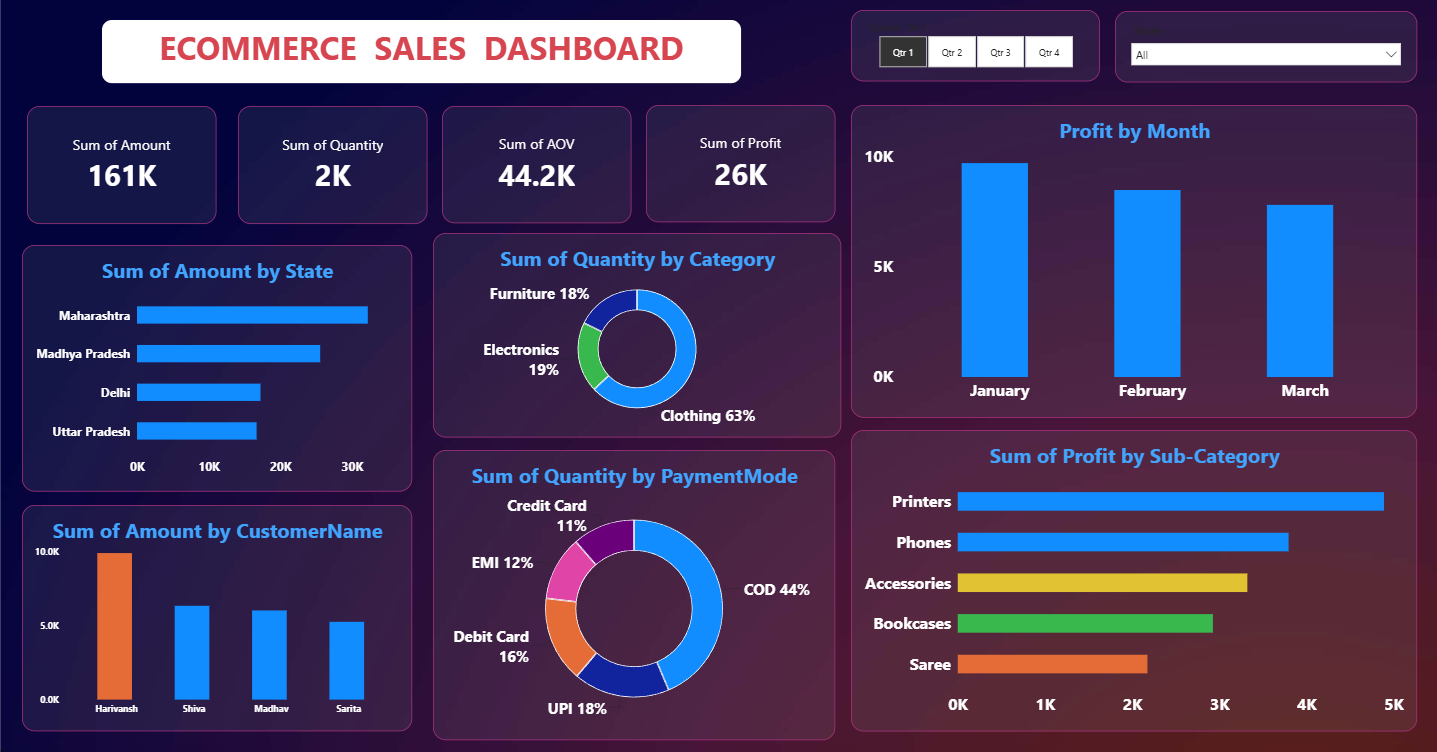

This screenshot's page, from the dashboard's own definition file:
{"tool":"powerbi","page":{"name":"Page 1","canvas":[1920,1080],"ordinal":0},"visuals":[{"type":"clusteredColumnChart","title":"Profit by Month","fields":{"Category":["Orders.Order Date.Variation.Date Hierarchy.Month"],"Y":["Sum(Details.Profit)"]},"box":[1132.3,176.9,752.9,415.7],"z":0},{"type":"textbox","box":[135.7,63.8,849.9,83.8],"z":1000},{"type":"barChart","fields":{"Category":["Details.Sub-Category"],"Y":["Sum(Details.Profit)"]},"box":[1132.3,609.3,752.9,400.6],"z":2000},{"type":"donutChart","fields":{"Category":["Details.Category"],"Y":["Sum(Details.Quantity)"]},"box":[568.4,374.9,542.7,272.1],"z":3000},{"type":"donutChart","fields":{"Category":["Details.PaymentMode"],"Y":["Sum(Details.Quantity)"]},"box":[576,669.7,535.2,352.3],"z":4000},{"type":"cardVisual","fields":{"Data":["Sum(Details.Amount)"]},"box":[36.3,178.4,252.5,157.2],"z":5000},{"type":"cardVisual","fields":{"Data":["Sum(Details.Quantity)"]},"box":[316,178.4,252.5,157.2],"z":6000},{"type":"cardVisual","fields":{"Data":["Sum(Details.Profit)"]},"box":[858.7,176.9,252.5,155.7],"z":7000},{"type":"cardVisual","fields":{"Data":["Sum(Details.AOV)"]},"box":[588.1,178.4,252.5,155.7],"z":8000},{"type":"barChart","fields":{"Category":["Orders.State"],"Y":["Sum(Details.Amount)"]},"box":[28.7,362.8,518.6,328.1],"z":9000},{"type":"columnChart","fields":{"Category":["Orders.CustomerName"],"Y":["Sum(Details.Amount)"]},"box":[28.7,709,518.6,300.9],"z":10000},{"type":"slicer","fields":{"Values":["Orders.Order Date.Variation.Date Hierarchy.Quarter"]},"box":[1132.3,51.4,331.1,95.2],"z":10001},{"type":"slicer","fields":{"Values":["Orders.State"]},"box":[1483.1,51.4,402.1,95.2],"z":10002}]}

Visuals, with their boxes on the page's 1920x1080 design canvas (x1, y1, x2, y2). These are canvas units, not pixel positions in the 1437x752 screenshot, which may show the page scaled, cropped or inside an application window:
"Profit by Month" clusteredColumnChart: rect(1132, 177, 1885, 593)
textbox: rect(136, 64, 986, 148)
barChart - Details.Sub-Category x Sum(Details.Profit): rect(1132, 609, 1885, 1010)
donutChart - Details.Category x Sum(Details.Quantity): rect(568, 375, 1111, 647)
donutChart - Details.PaymentMode x Sum(Details.Quantity): rect(576, 670, 1111, 1022)
cardVisual - Sum(Details.Amount): rect(36, 178, 289, 336)
cardVisual - Sum(Details.Quantity): rect(316, 178, 568, 336)
cardVisual - Sum(Details.Profit): rect(859, 177, 1111, 333)
cardVisual - Sum(Details.AOV): rect(588, 178, 841, 334)
barChart - Orders.State x Sum(Details.Amount): rect(29, 363, 547, 691)
columnChart - Orders.CustomerName x Sum(Details.Amount): rect(29, 709, 547, 1010)
slicer - Orders.Order Date.Variation.Date Hierarchy.Quarter: rect(1132, 51, 1463, 147)
slicer - Orders.State: rect(1483, 51, 1885, 147)
